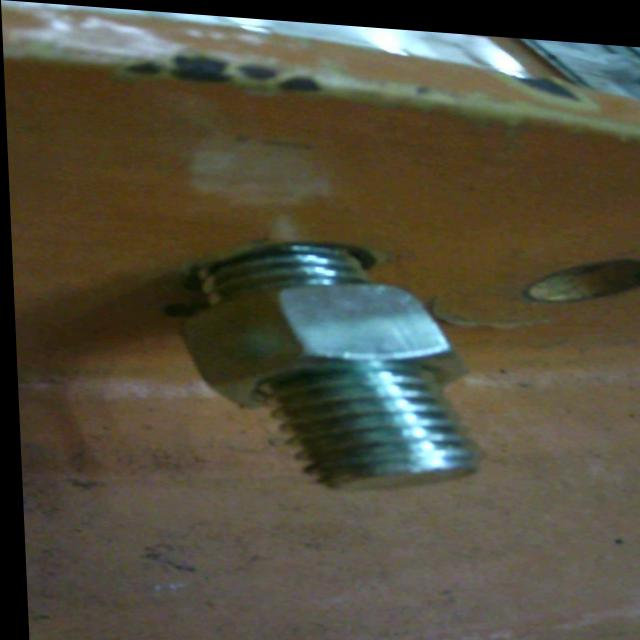Loose bolt: (175, 232, 477, 496)
Missing bolt: (523, 240, 640, 305)
Regular bolt: (179, 233, 463, 483)
